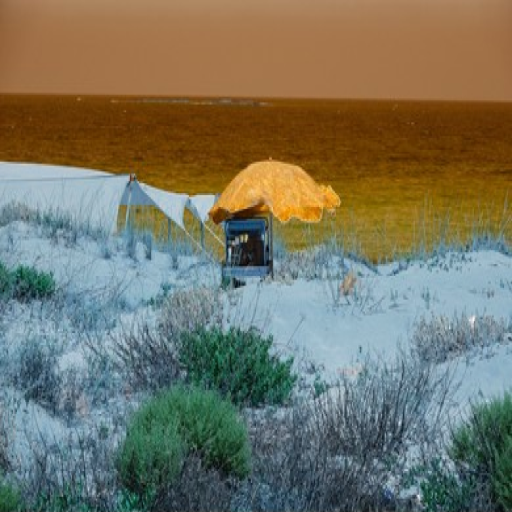portable_generator: (221, 215, 274, 275)
